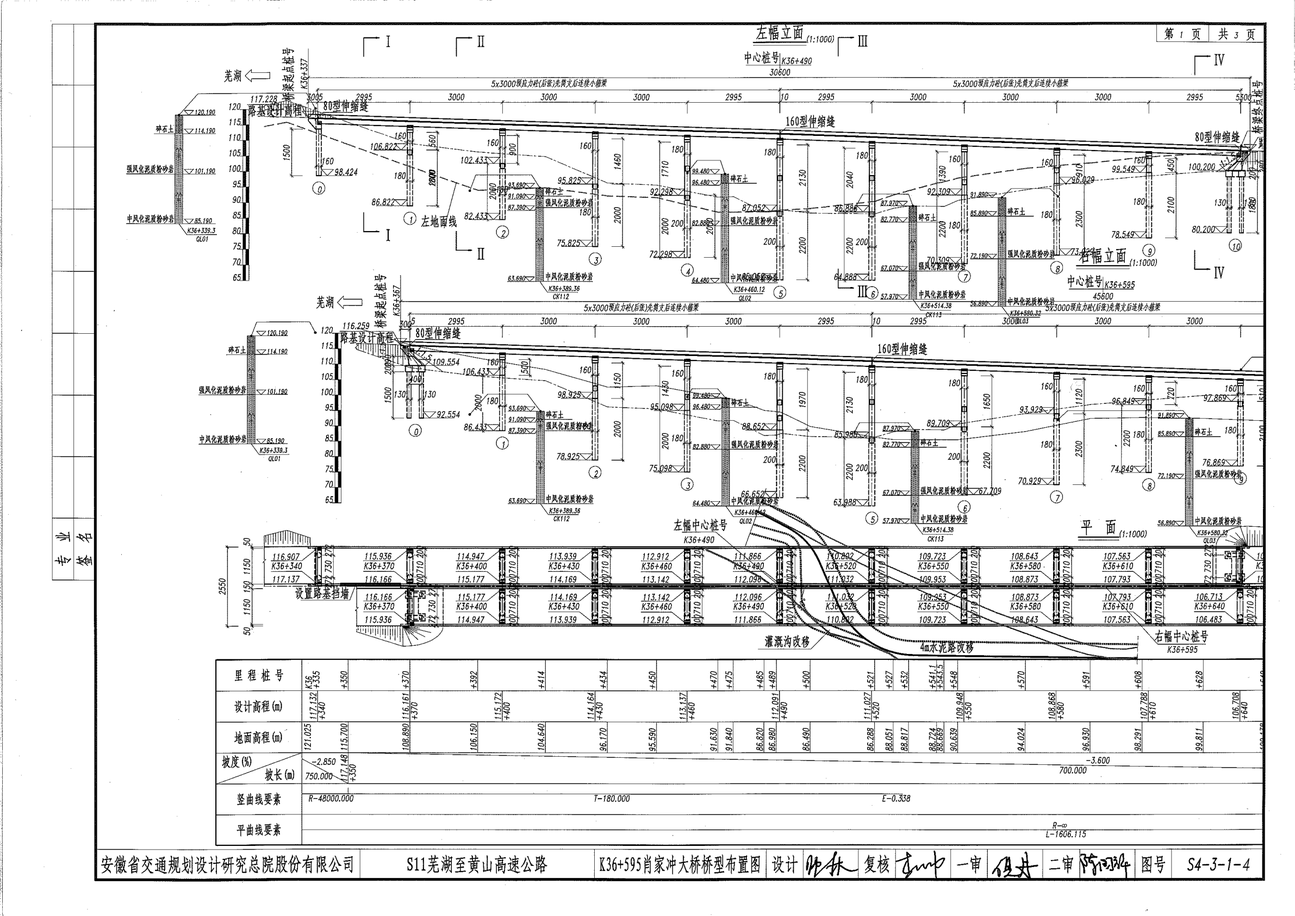A: (195, 25, 1261, 304), (202, 284, 1255, 529)
